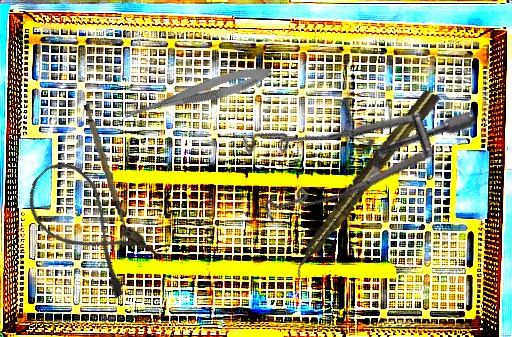Cannula: (14, 151, 163, 303)
Handpiece: (285, 86, 442, 280)
Micro Scissor: (119, 59, 275, 130)
Scalpel Handle: (81, 101, 127, 230)
Speculum: (214, 11, 481, 273)
